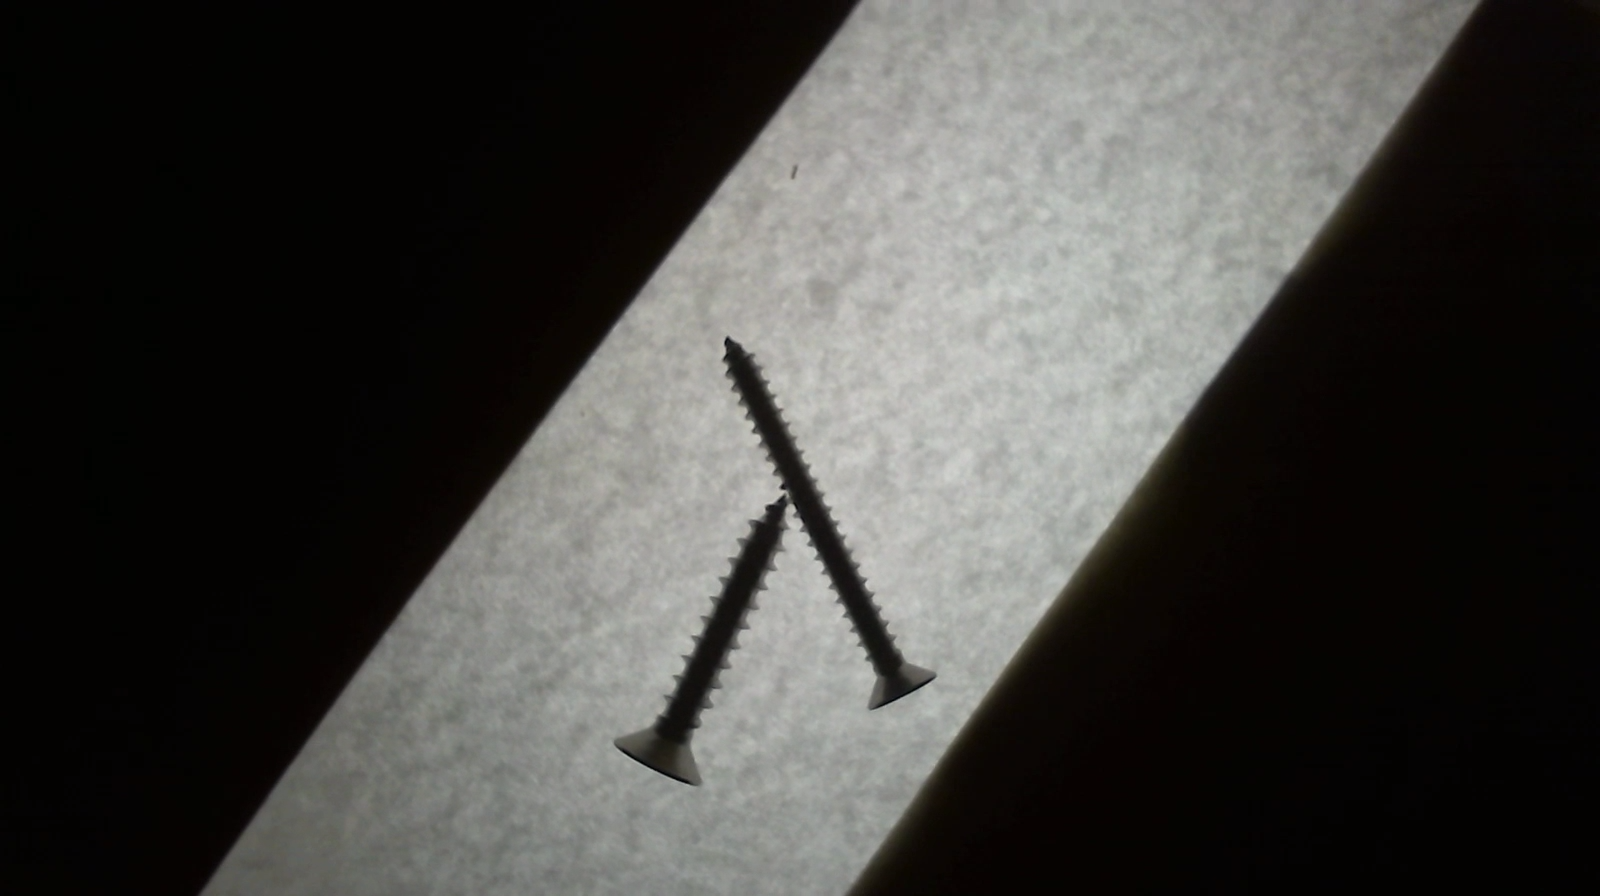S001: (612, 498, 793, 790)
S002: (718, 335, 942, 716)
